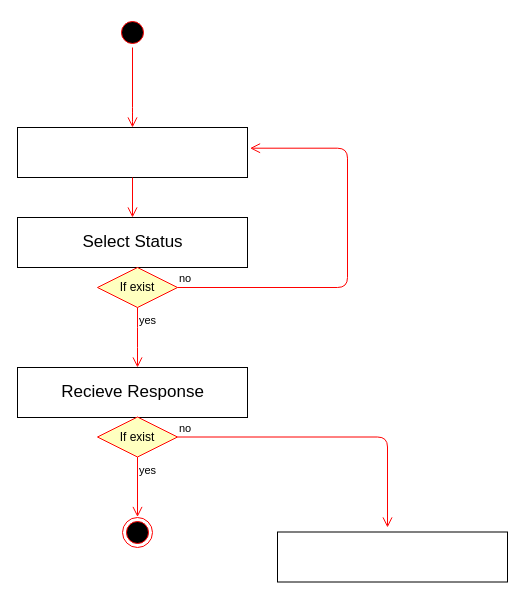
The diagram is 525 pixels wide and 600 high, and some of its shapes have lost their labels. Here are the shapes that lost their labels. From the top down, the centre of each, then its label:
pixel 132 152: Create Ticket
pixel 392 556: Wait for Response
